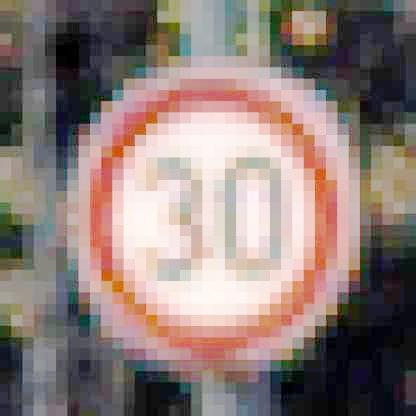Speed Limit -30-: (68, 61, 360, 368)
